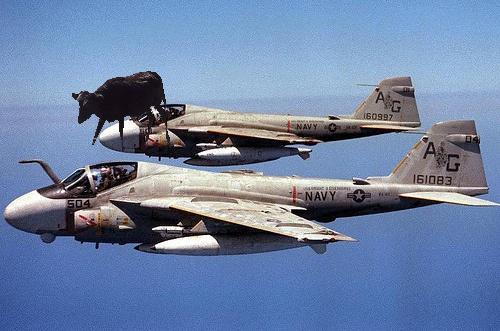tampered: (73, 72, 170, 151)
